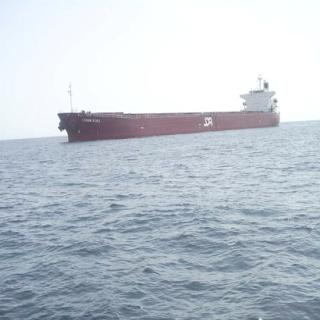Bulk Carrier: (52, 72, 288, 140)
